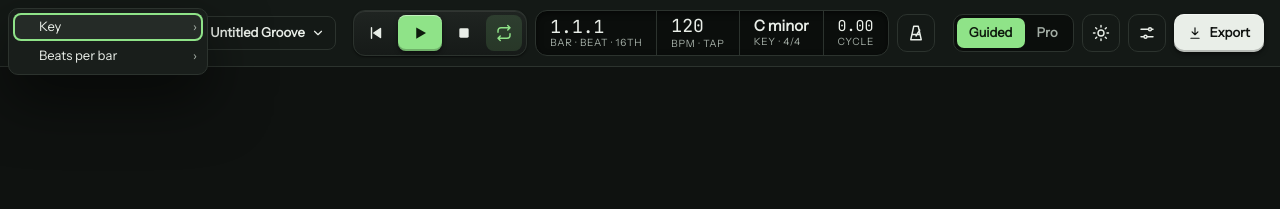
Test case: AppHeader › should set the beats per bar from the key cell's menu
Click the menu item "Beats per bar ›": (108, 56) x1=13 y1=42 x2=203 y2=70
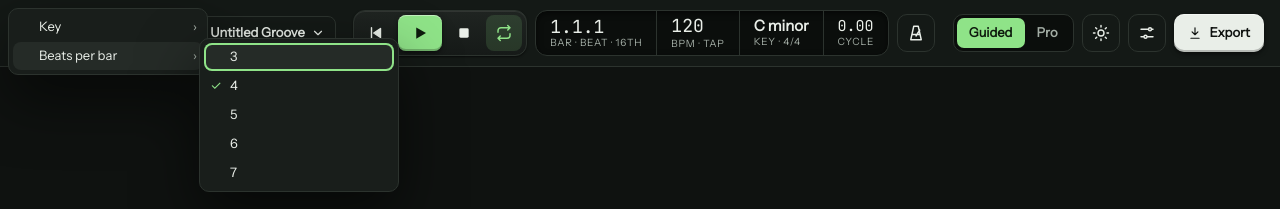
Click the menu item "3": (299, 57) x1=204 y1=43 x2=394 y2=71
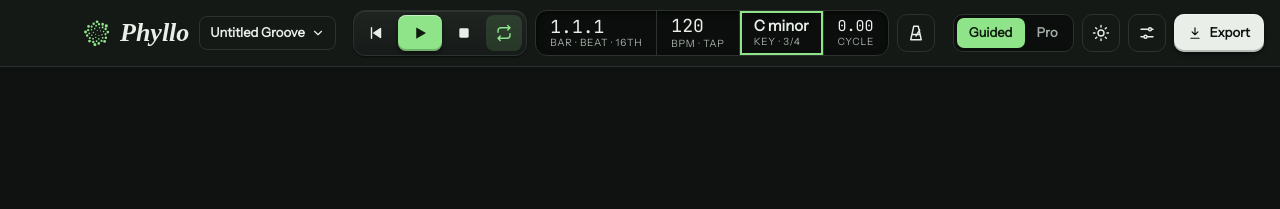
Now the text "KEY · 3/4" is shown, box x1=754 y1=35 x2=801 y2=48
